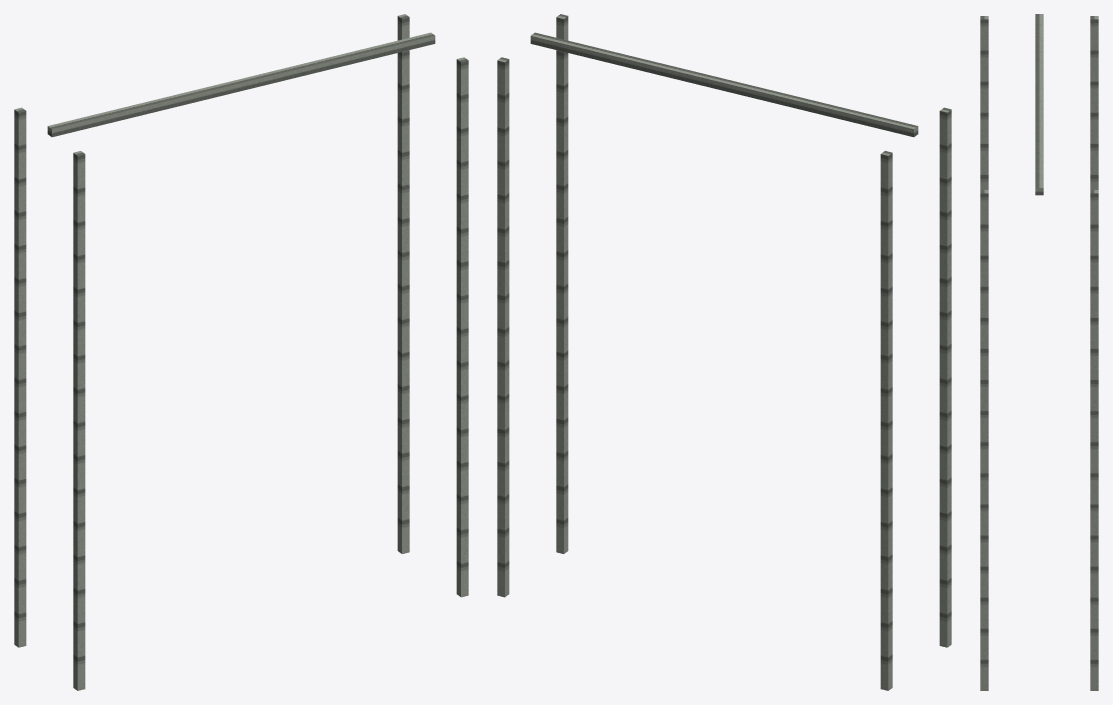
Rendered from hanging_goods_rack.glb.
3 views of the same model, side by side, from view 1: azimuth 30°, elevation 25°; view 2: azimuth 150°, elevation 25°; view 3: azimuth 270°, elevation 25° (orthographic). The views are drawn at different scales.
Visible parts, largest first — view 1: hanging_goods_rack-col; view 2: hanging_goods_rack-col; view 3: hanging_goods_rack-col.
Boxes of the visible parts, x1,y1,x2,y2 form: hanging_goods_rack-col: [14, 14, 468, 690]; hanging_goods_rack-col: [497, 14, 951, 690]; hanging_goods_rack-col: [980, 14, 1098, 690].
Size of the model in its own units: 1.53 by 2.01 by 0.43.
Materials: 1 (1 with a texture image).
